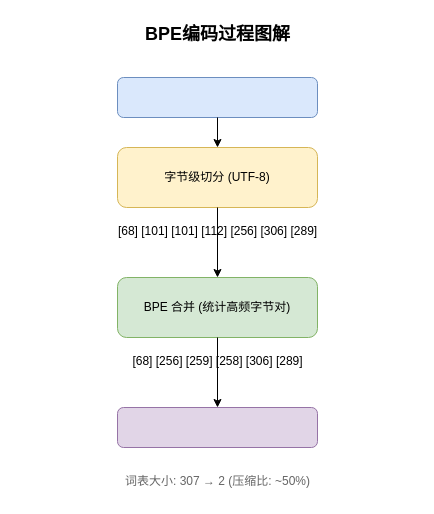
This 434x514 diagram has some shape labels left out. The shapes that lost their labels are listed below. From the top down, each one's centre as x and y in pixels, then its label:
[217,97]: 输入: "DeepSeek真好用"
[217,427]: 输出: [68, 256, 259, 258, 306, 289]
